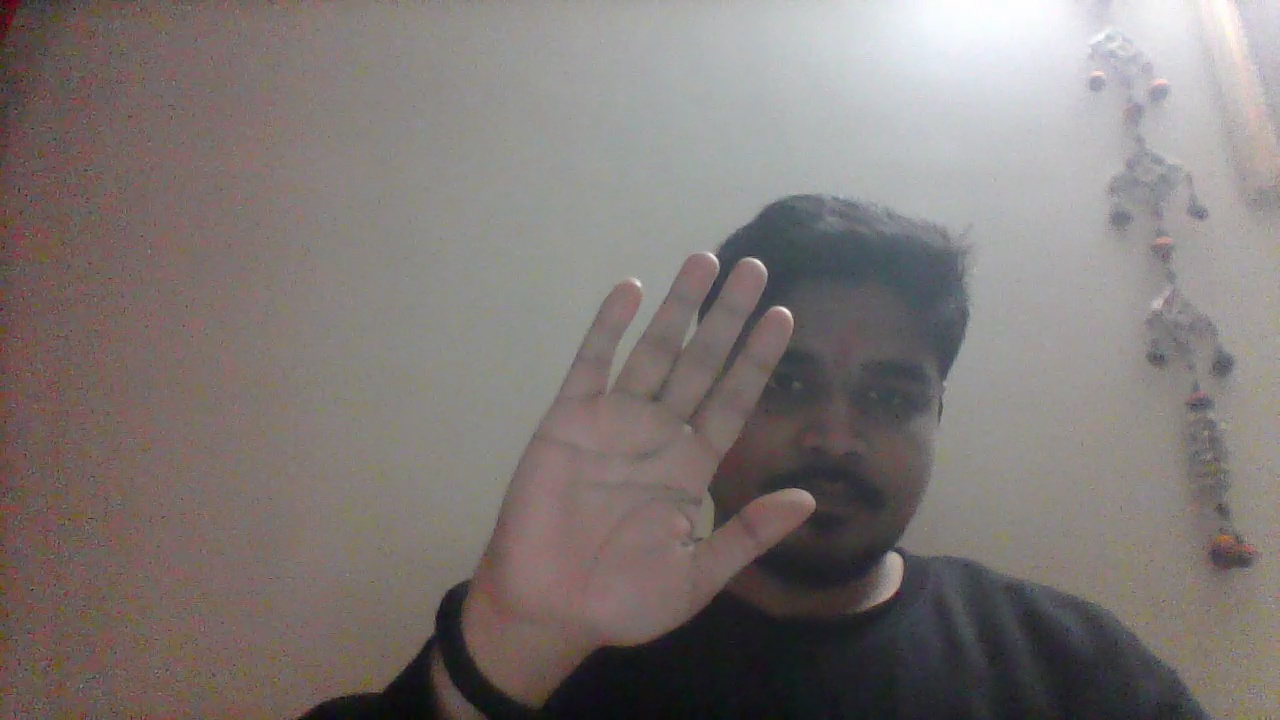Hello: (480, 245, 815, 653)
